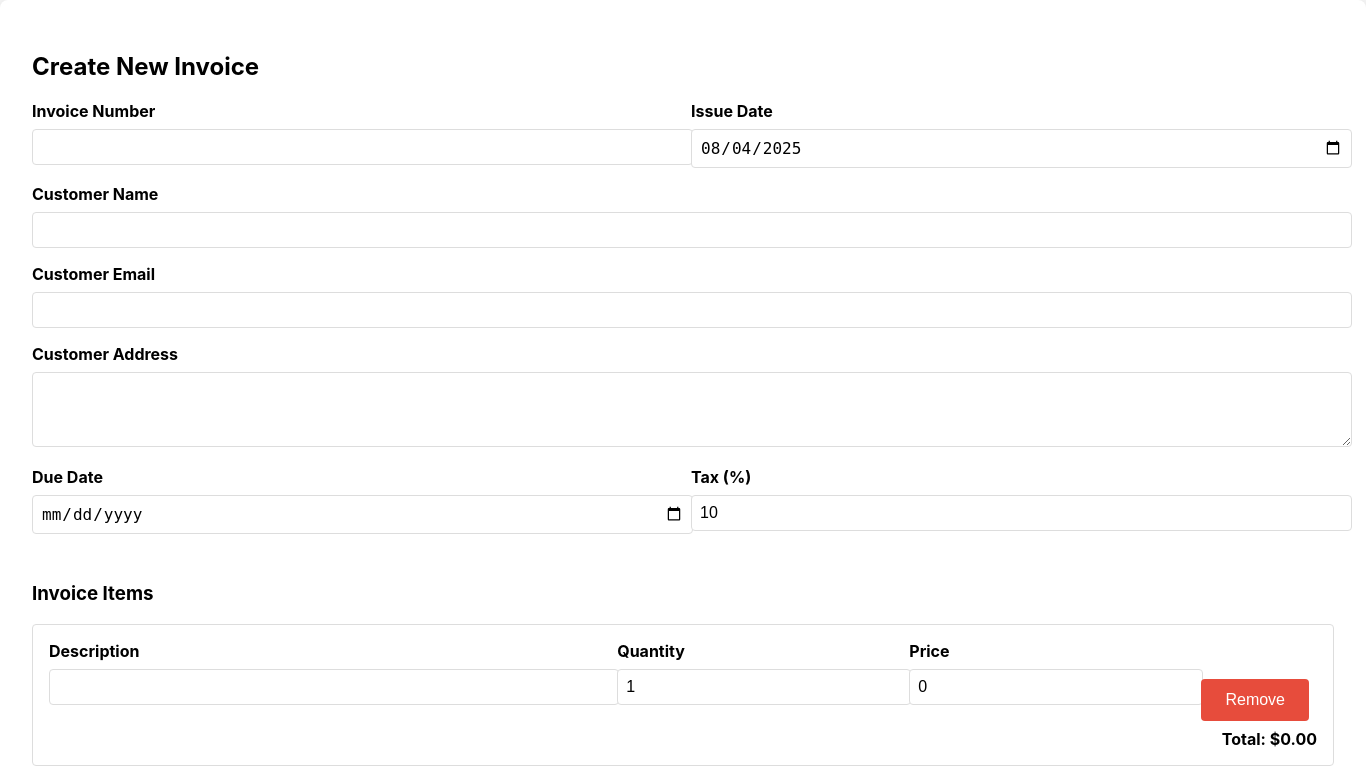
Test: InvoiceForm Component › calculates item total correctly
This screenshot has width=1366, height=768.
Replace the text in the number field showing "1" below "Quantity" with "5". click: (764, 686)
box: 617,668 -> 911,704
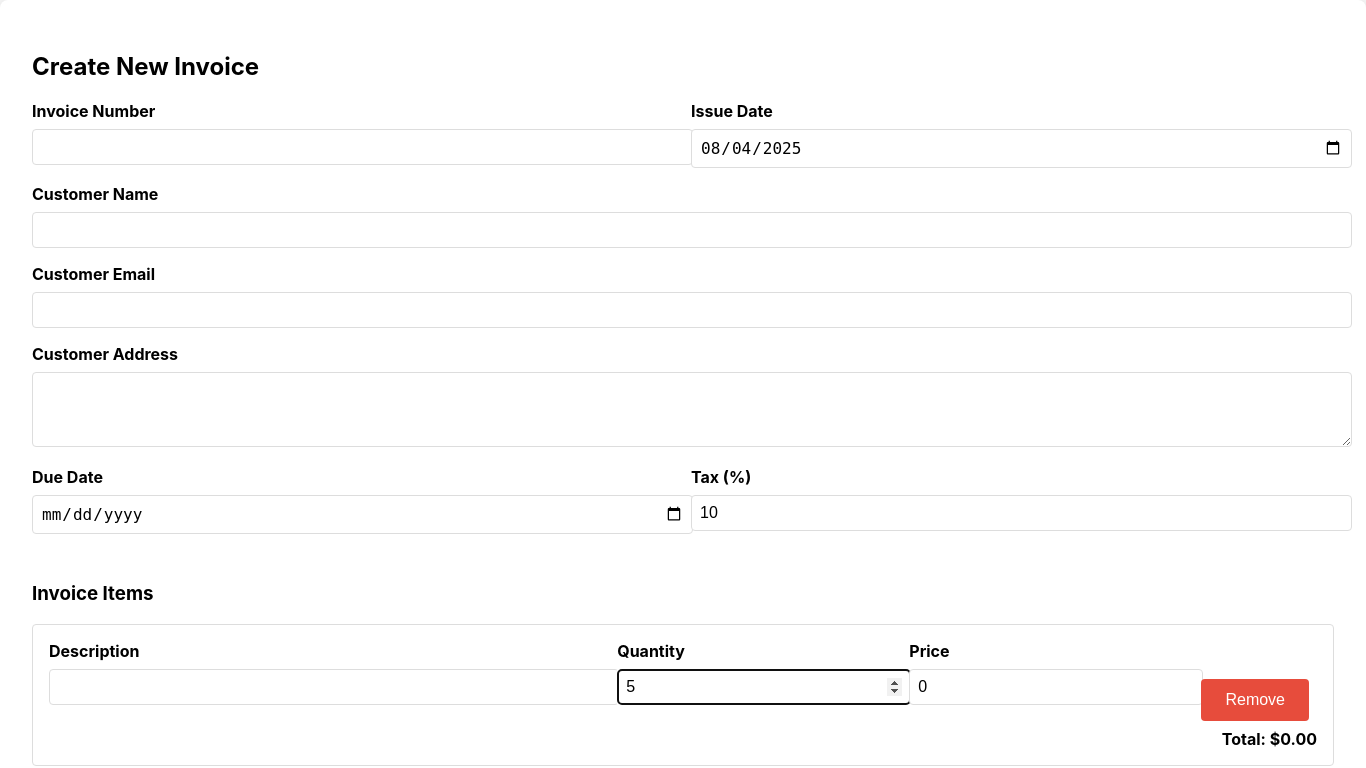
Replace the text in the number field showing "0" below "Price" with "10.50". click: (1056, 686)
box: 909,668 -> 1203,704
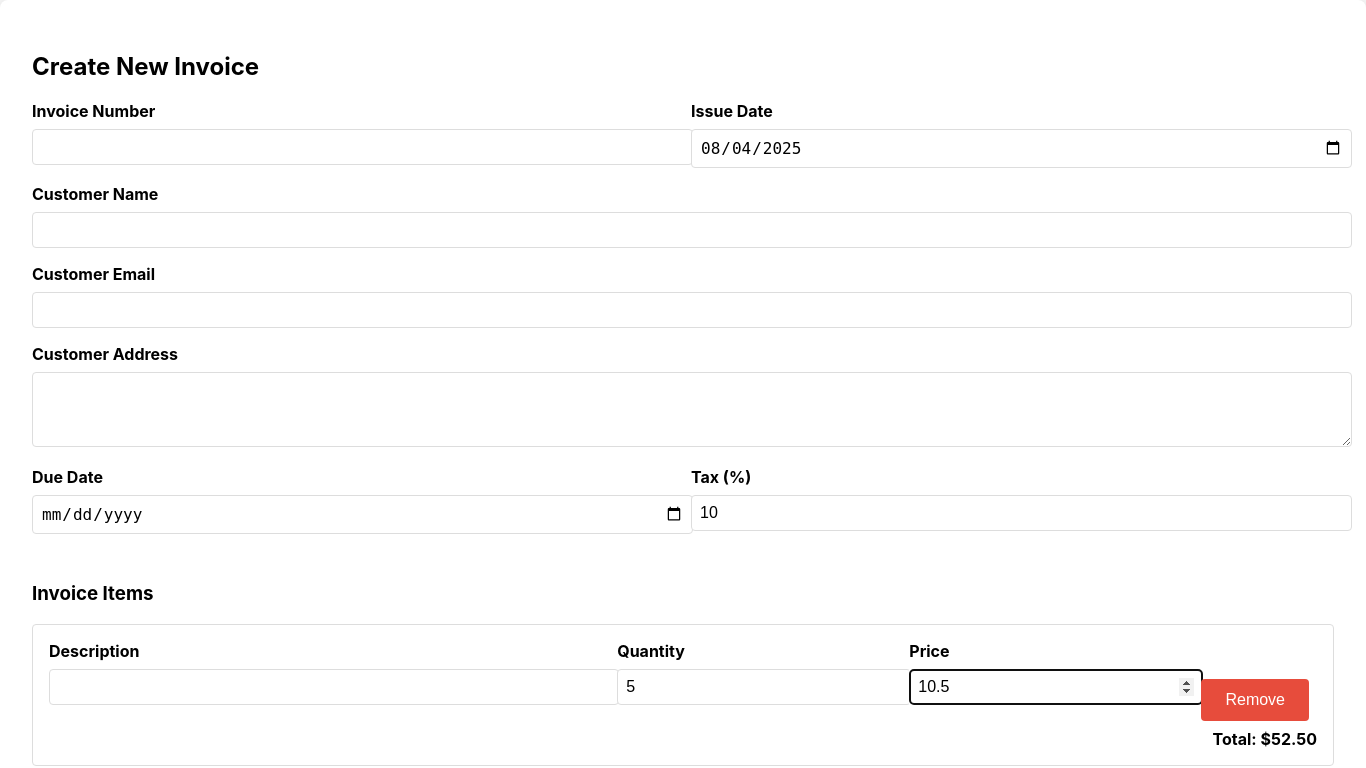
Result: the text "Total: $52.50" is shown at 1213,728 -> 1317,748
